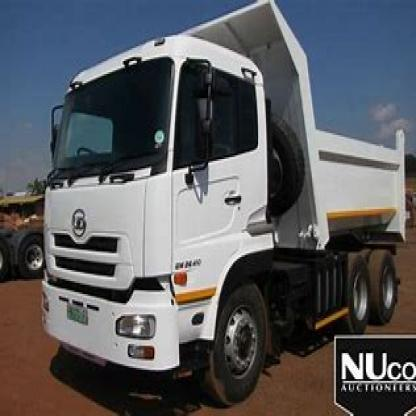dump_truck: (32, 2, 412, 396)
